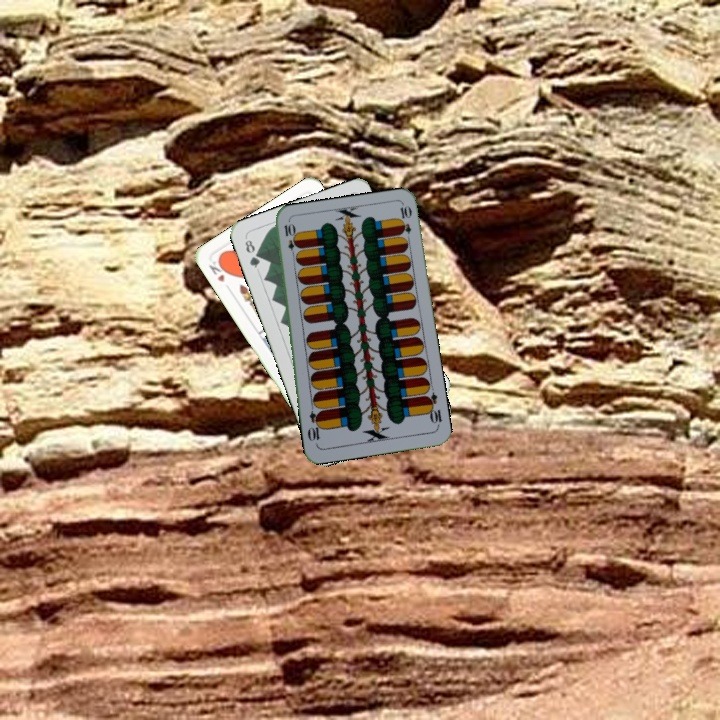E10: (421, 389, 444, 429), (280, 220, 299, 260)
G8: (241, 234, 263, 270)
HK: (205, 255, 231, 285)
